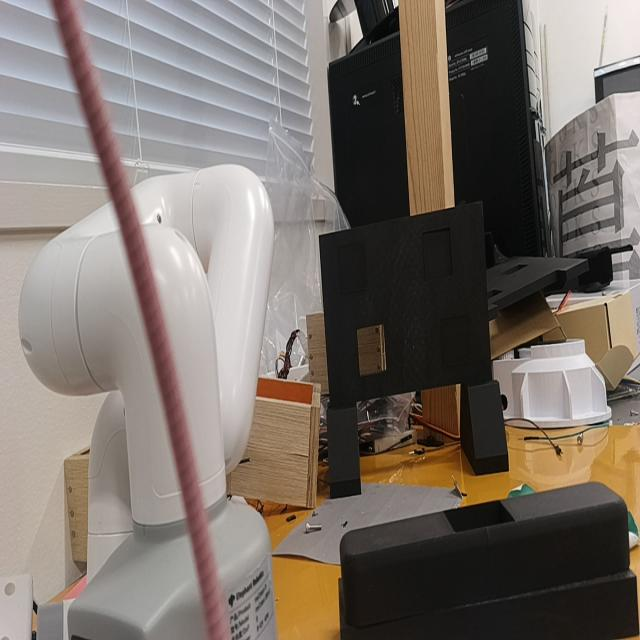Obstacle: (357, 322, 386, 376)
Wall: (320, 200, 492, 402)
